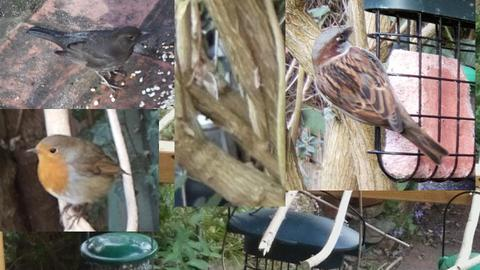blackbird: (25, 25, 150, 93)
robin: (25, 134, 134, 230)
sparrow: (310, 25, 450, 166)
